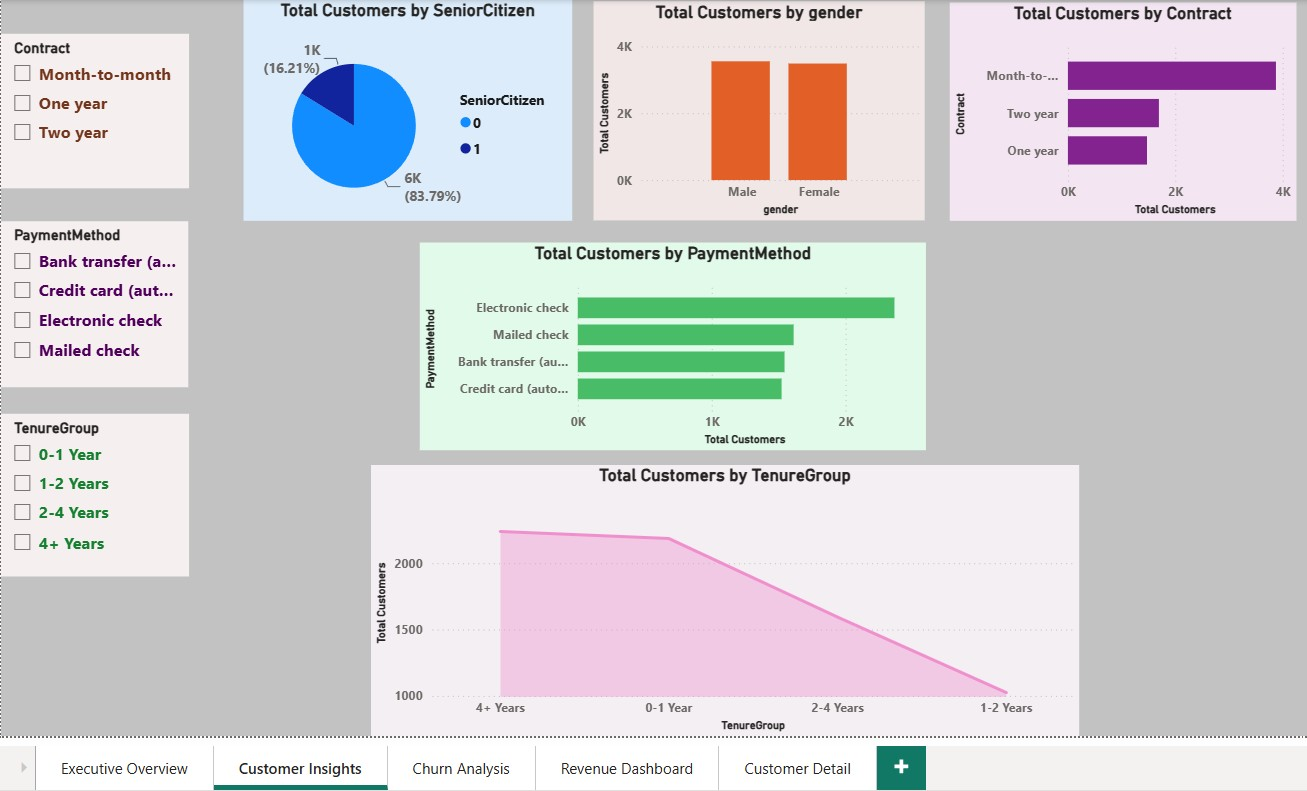

The page's visual inventory and layout, read from the dashboard file:
{"tool":"powerbi","page":{"name":"Customer Insights","canvas":[1280,720],"ordinal":1},"visuals":[{"type":"slicer","fields":{"Values":["churn_project dim_subscription.Contract"]},"box":[0,33.5,183.7,151.4],"z":0},{"type":"slicer","fields":{"Values":["churn_project dim_subscription.PaymentMethod"]},"box":[0,216.4,183.4,162.6],"z":1000},{"type":"slicer","fields":{"Values":["fact_Churn.TenureGroup"]},"box":[0,404.7,183.7,158.9],"z":2000},{"type":"pieChart","fields":{"Y":["fact_Churn.Total Customers"],"Category":["churn_project dim_customer.SeniorCitizen"]},"box":[237.1,0,321.5,216],"z":3000},{"type":"clusteredColumnChart","fields":{"Category":["churn_project dim_customer.gender"],"Y":["fact_Churn.Total Customers"]},"box":[579.7,1.2,324,214.7],"z":4000},{"type":"barChart","fields":{"Category":["churn_project dim_subscription.Contract"],"Y":["fact_Churn.Total Customers"]},"box":[928.5,2.5,338.9,213.5],"z":5000},{"type":"barChart","fields":{"Category":["churn_project dim_subscription.PaymentMethod"],"Y":["fact_Churn.Total Customers"]},"box":[409.6,237.1,495.3,203.6],"z":6000},{"type":"areaChart","fields":{"Category":["fact_Churn.TenureGroup"],"Y":["fact_Churn.Total Customers"]},"box":[362.5,454.3,692.6,265.6],"z":7000}]}

Visuals, with their boxes on the page's 1280x720 design canvas (x1, y1, x2, y2). These are canvas units, not pixel positions in the 1307x791 screenshot, which may show the page scaled, cropped or inside an application window:
slicer - churn_project dim_subscription.Contract: {"left": 0, "top": 34, "right": 184, "bottom": 185}
slicer - churn_project dim_subscription.PaymentMethod: {"left": 0, "top": 216, "right": 183, "bottom": 379}
slicer - fact_Churn.TenureGroup: {"left": 0, "top": 405, "right": 184, "bottom": 564}
pieChart - fact_Churn.Total Customers x churn_project dim_customer.SeniorCitizen: {"left": 237, "top": 0, "right": 559, "bottom": 216}
clusteredColumnChart - churn_project dim_customer.gender x fact_Churn.Total Customers: {"left": 580, "top": 1, "right": 904, "bottom": 216}
barChart - churn_project dim_subscription.Contract x fact_Churn.Total Customers: {"left": 928, "top": 2, "right": 1267, "bottom": 216}
barChart - churn_project dim_subscription.PaymentMethod x fact_Churn.Total Customers: {"left": 410, "top": 237, "right": 905, "bottom": 441}
areaChart - fact_Churn.TenureGroup x fact_Churn.Total Customers: {"left": 362, "top": 454, "right": 1055, "bottom": 720}
